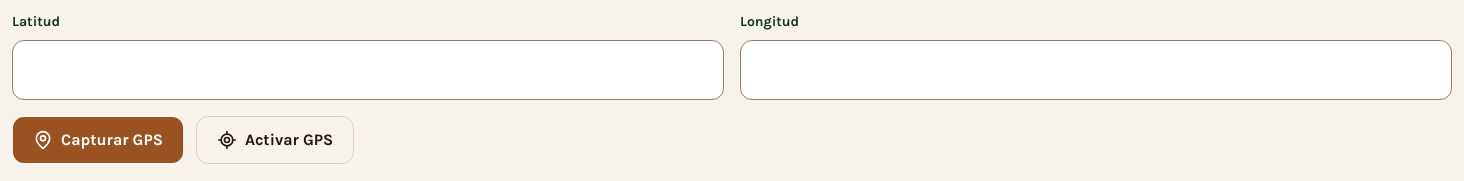
Test: farm location capture › GPS precision › shows the best precision on the button while it keeps reading
Click the button "Capturar GPS" at (98, 140), box [12, 116, 184, 164]
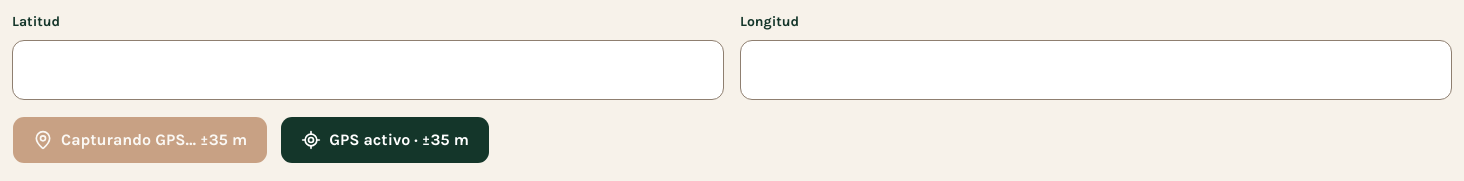
Result: the button "Capturando GPS… ±35 m" is disabled at [12, 116, 268, 164]
